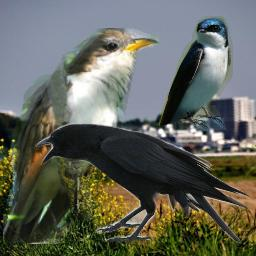Crow: (35, 123, 253, 244)
Cuckoo: (3, 28, 159, 244)
Swallow: (159, 16, 233, 131)
